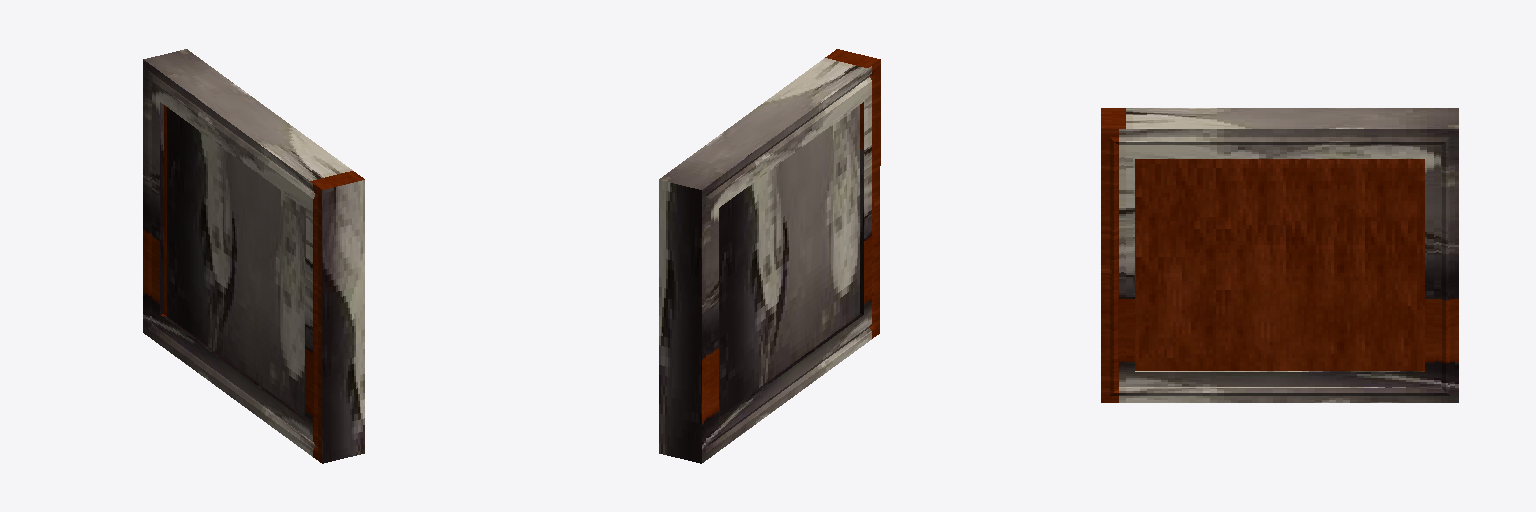
3 renders of one model, left to right at view 1: azimuth 30°, elevation 25°; view 2: azimuth 150°, elevation 25°; view 3: azimuth 270°, elevation 25°, orthographic.
Visible parts, largest first — view 1: Cuadro_Marco_Plane, Cuadro_Cube.002; view 2: Cuadro_Marco_Plane, Cuadro_Cube.002; view 3: Cuadro_Cube.002, Cuadro_Marco_Plane.
Part boxes in pixels (x1,y1,x2,y2): Cuadro_Marco_Plane: (143,49,364,463); Cuadro_Cube.002: (164,105,305,416); Cuadro_Marco_Plane: (659,49,880,463); Cuadro_Cube.002: (719,105,859,416); Cuadro_Cube.002: (1135,159,1424,370); Cuadro_Marco_Plane: (1101,108,1458,402).
Bounding box in the file's own units: 0.2082 × 1.18 × 1.39.
Materials: 1 (1 with a texture image).